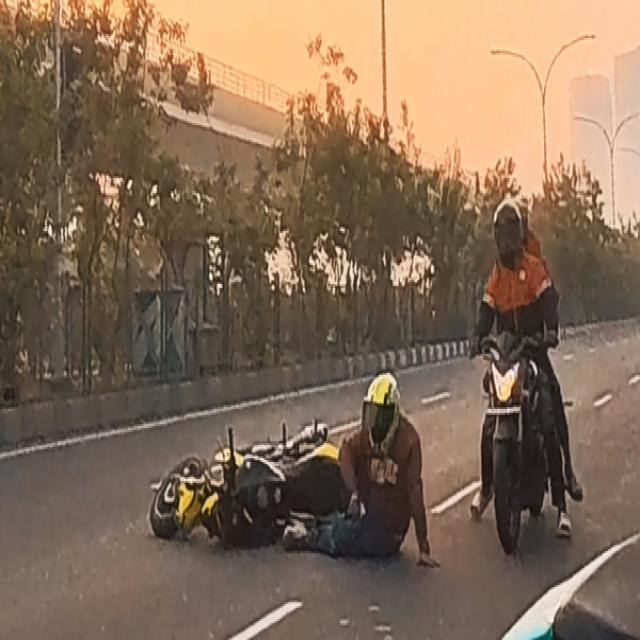accident: (150, 373, 439, 567), (471, 199, 583, 560)
